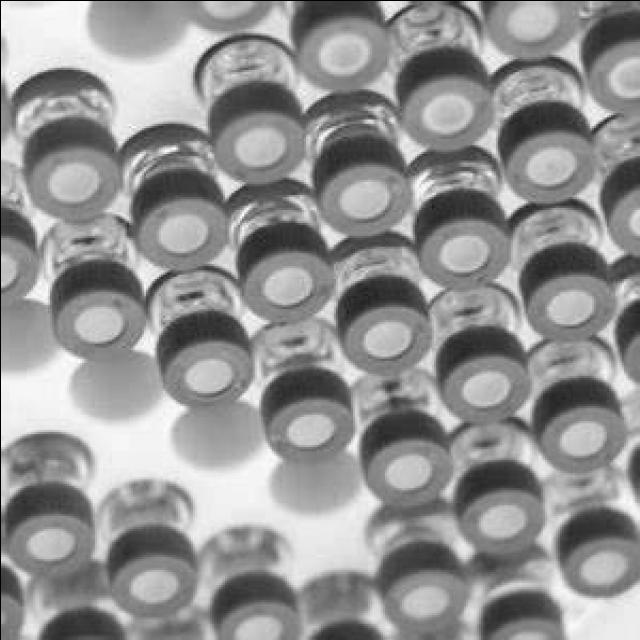vial: (51, 286, 138, 376), (105, 537, 197, 620), (26, 131, 104, 222), (130, 194, 228, 266), (500, 134, 594, 206), (287, 26, 394, 88), (158, 323, 236, 403), (320, 156, 414, 219), (238, 249, 324, 317), (198, 114, 298, 172), (261, 388, 345, 456), (412, 222, 500, 286), (6, 502, 86, 572), (405, 78, 489, 142), (354, 437, 436, 502), (338, 310, 426, 364), (446, 355, 514, 421), (542, 276, 606, 344), (468, 489, 540, 547), (534, 411, 620, 458), (486, 0, 566, 50), (562, 537, 624, 600), (592, 33, 640, 113), (388, 569, 458, 623), (0, 217, 41, 307), (214, 595, 296, 640), (609, 171, 640, 267), (616, 264, 638, 392), (481, 602, 551, 640), (211, 0, 276, 29), (41, 620, 128, 640), (0, 81, 23, 136), (307, 622, 369, 640), (627, 426, 640, 504), (0, 588, 13, 636), (625, 285, 640, 297)
